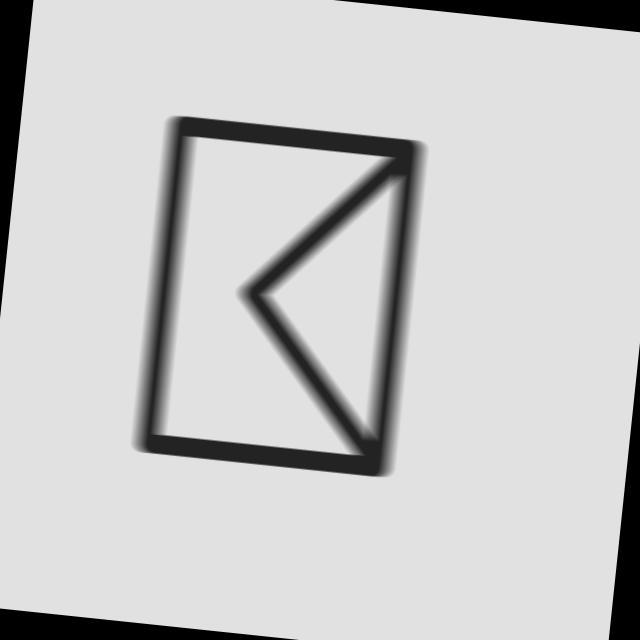letter: (123, 110, 436, 482)
